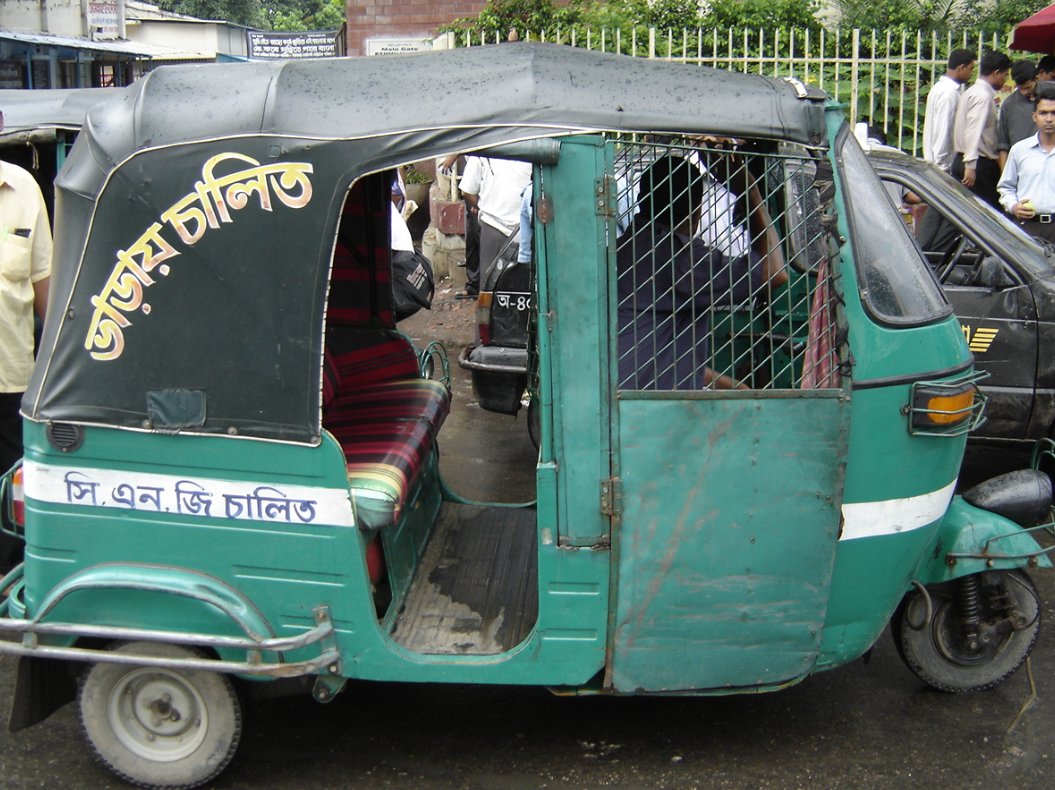cng: (20, 45, 1049, 788)
